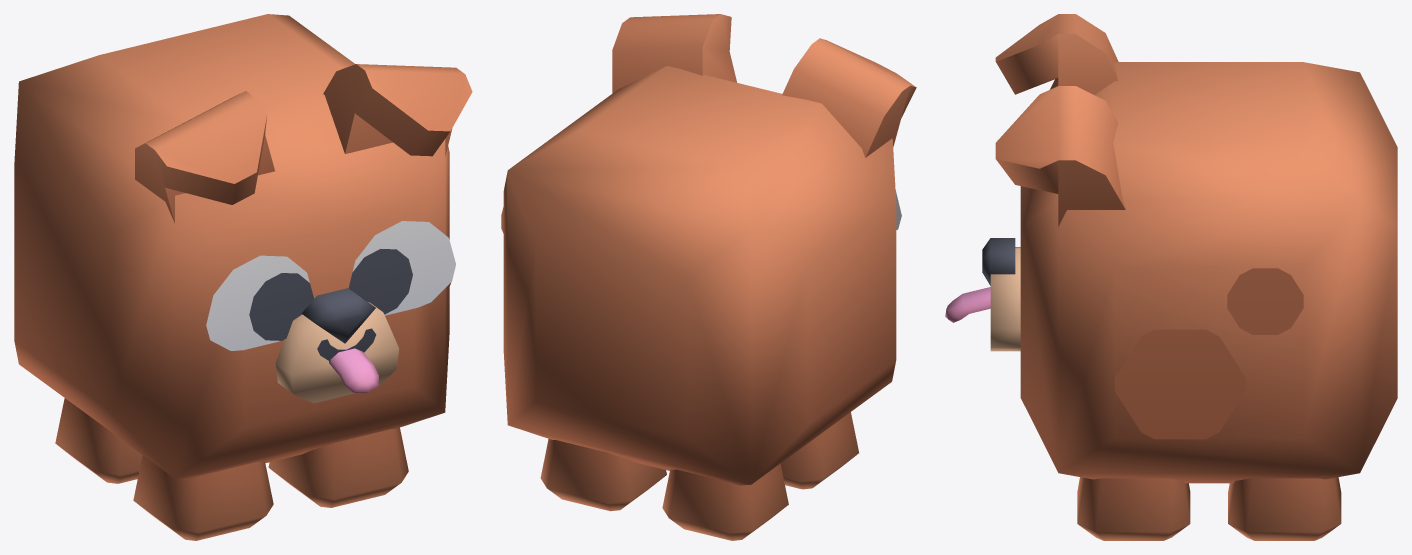
File: animal-dog.glb
3 renders of one model, left to right at view 1: azimuth 30°, elevation 25°; view 2: azimuth 150°, elevation 25°; view 3: azimuth 270°, elevation 25°, orthographic. The views are drawn at different scales.
Visible parts, largest first — view 1: body, leg-front-right, leg-front-left, leg-back-right; view 2: body, leg-back-right, leg-back-left, leg-front-right; view 3: body, leg-back-left, leg-front-left.
Boxes of the visible parts, <box> form: body: <box>14,14,472,479</box>; leg-front-right: <box>133,455,273,540</box>; leg-front-left: <box>268,427,408,507</box>; leg-back-right: <box>55,398,142,483</box>; body: <box>501,14,916,485</box>; leg-back-right: <box>662,463,788,540</box>; leg-back-left: <box>540,439,666,511</box>; leg-front-right: <box>780,412,858,489</box>; body: <box>945,14,1397,483</box>; leg-back-left: <box>1228,477,1341,540</box>; leg-front-left: <box>1077,477,1190,540</box>.
Size of the model in its own units: 1.26 by 1.58 by 1.5.
Materials: 1 (1 with a texture image).
